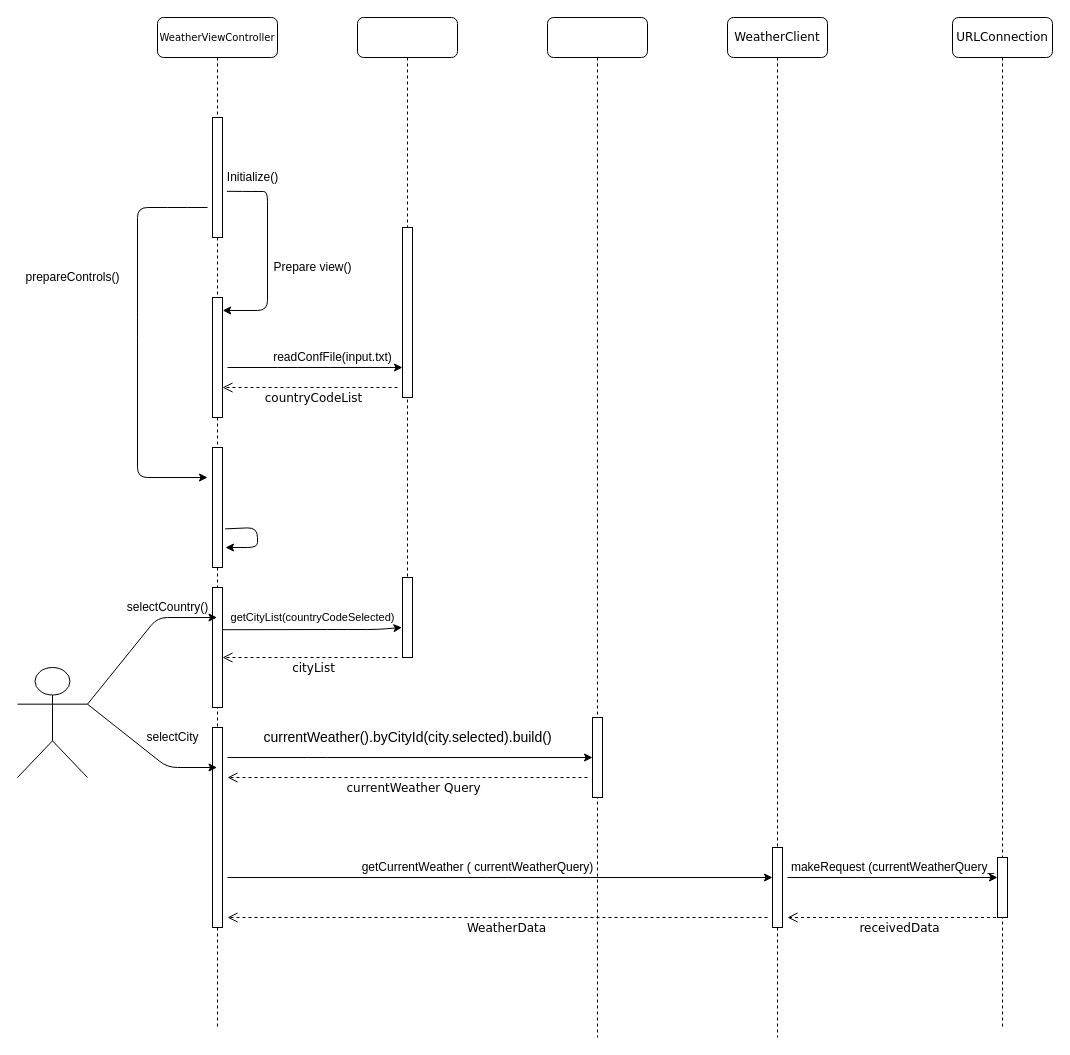
The diagram is 1070 pixels wide and 1055 high, and some of its shapes have lost their labels. Each missing label, with the box of its shape:
FileParser: (356, 16, 458, 598)
QueryBuilder: (546, 16, 648, 1038)
